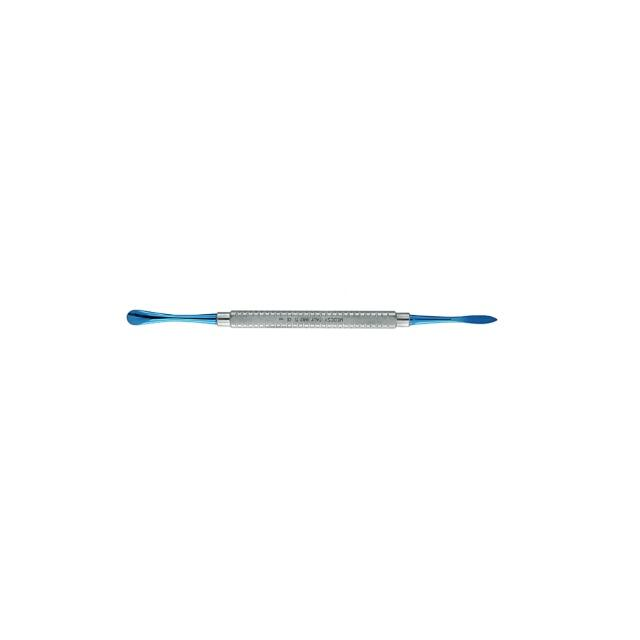elevador: (124, 304, 499, 333)
